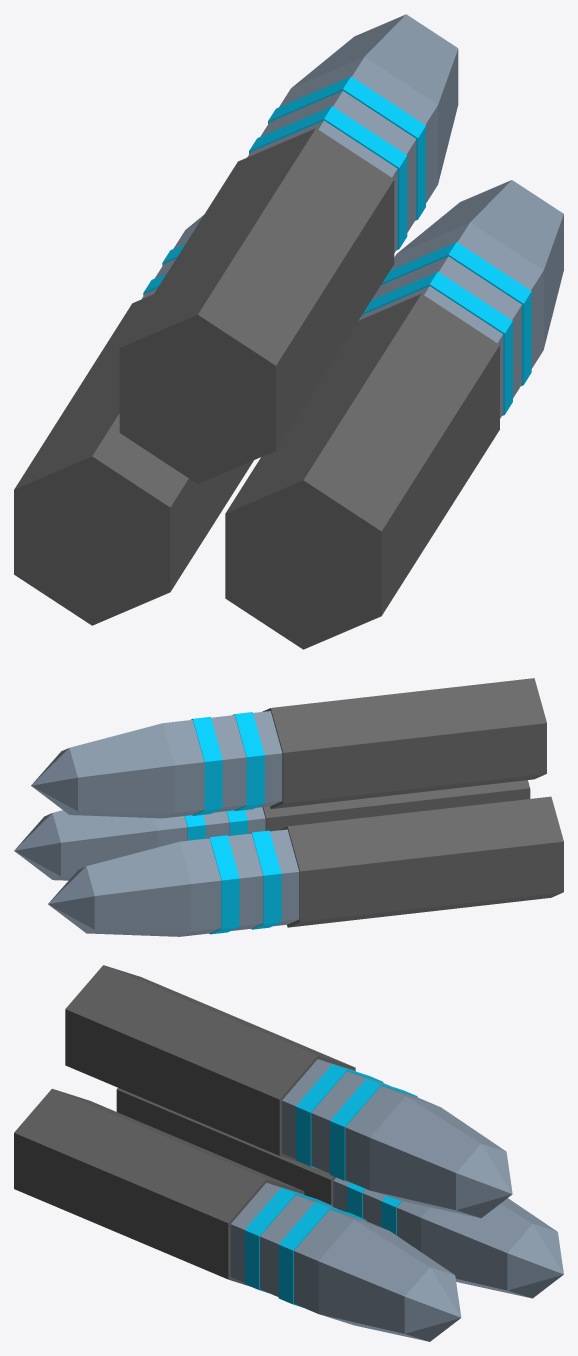
File: ce_ammo2_rcl84_emp_b.obj
3 renders of one model, top to bottom at view 1: azimuth 30°, elevation 25°; view 2: azimuth 150°, elevation 25°; view 3: azimuth 270°, elevation 25°, orthographic. The views are drawn at different scales.
Visible parts, largest first — view 1: ce_ammo2_rcl84_emp_b_16, ce_ammo2_rcl84_emp_b_8, ce_ammo2_rcl84_emp_b_0, ce_ammo2_rcl84_emp_b_14, ce_ammo2_rcl84_emp_b_22, ce_ammo2_rcl84_emp_b_13, ce_ammo2_rcl84_emp_b_21, ce_ammo2_rcl84_emp_b_19, ce_ammo2_rcl84_emp_b_18, ce_ammo2_rcl84_emp_b_20, ce_ammo2_rcl84_emp_b_11, ce_ammo2_rcl84_emp_b_10 (+3 smaller); view 2: ce_ammo2_rcl84_emp_b_0, ce_ammo2_rcl84_emp_b_16, ce_ammo2_rcl84_emp_b_6, ce_ammo2_rcl84_emp_b_22, ce_ammo2_rcl84_emp_b_8, ce_ammo2_rcl84_emp_b_14, ce_ammo2_rcl84_emp_b_5, ce_ammo2_rcl84_emp_b_21, ce_ammo2_rcl84_emp_b_19, ce_ammo2_rcl84_emp_b_3, ce_ammo2_rcl84_emp_b_4, ce_ammo2_rcl84_emp_b_2 (+12 smaller); view 3: ce_ammo2_rcl84_emp_b_16, ce_ammo2_rcl84_emp_b_8, ce_ammo2_rcl84_emp_b_22, ce_ammo2_rcl84_emp_b_14, ce_ammo2_rcl84_emp_b_6, ce_ammo2_rcl84_emp_b_0, ce_ammo2_rcl84_emp_b_15, ce_ammo2_rcl84_emp_b_7, ce_ammo2_rcl84_emp_b_23, ce_ammo2_rcl84_emp_b_21, ce_ammo2_rcl84_emp_b_13, ce_ammo2_rcl84_emp_b_11 (+11 smaller).
Boxes of the visible parts, x1,y1,x2,y2 form: ce_ammo2_rcl84_emp_b_16: (119,128,394,483); ce_ammo2_rcl84_emp_b_8: (225,293,499,649); ce_ammo2_rcl84_emp_b_0: (14,294,253,625); ce_ammo2_rcl84_emp_b_14: (397,180,563,349); ce_ammo2_rcl84_emp_b_22: (292,14,458,183); ce_ammo2_rcl84_emp_b_13: (390,222,543,368); ce_ammo2_rcl84_emp_b_21: (279,57,437,202); ce_ammo2_rcl84_emp_b_19: (260,91,416,232); ce_ammo2_rcl84_emp_b_18: (249,106,407,249); ce_ammo2_rcl84_emp_b_20: (268,76,425,220); ce_ammo2_rcl84_emp_b_11: (372,256,521,397); ce_ammo2_rcl84_emp_b_10: (362,271,512,415); ce_ammo2_rcl84_emp_b_0: (279,796,563,927); ce_ammo2_rcl84_emp_b_16: (262,678,546,808); ce_ammo2_rcl84_emp_b_6: (86,841,191,936); ce_ammo2_rcl84_emp_b_22: (69,723,174,818); ce_ammo2_rcl84_emp_b_8: (262,780,530,831); ce_ammo2_rcl84_emp_b_14: (52,810,157,880); ce_ammo2_rcl84_emp_b_5: (180,838,221,936); ce_ammo2_rcl84_emp_b_21: (163,720,204,818); ce_ammo2_rcl84_emp_b_19: (211,715,246,812); ce_ammo2_rcl84_emp_b_3: (228,833,263,930); ce_ammo2_rcl84_emp_b_4: (207,835,239,934); ce_ammo2_rcl84_emp_b_2: (249,830,281,929); ce_ammo2_rcl84_emp_b_16: (65,965,355,1162); ce_ammo2_rcl84_emp_b_8: (14,1088,304,1286); ce_ammo2_rcl84_emp_b_22: (369,1096,505,1217); ce_ammo2_rcl84_emp_b_14: (318,1219,454,1341); ce_ammo2_rcl84_emp_b_6: (421,1198,556,1297); ce_ammo2_rcl84_emp_b_0: (116,1088,335,1206); ce_ammo2_rcl84_emp_b_15: (404,1267,461,1341); ce_ammo2_rcl84_emp_b_7: (507,1224,563,1298); ce_ammo2_rcl84_emp_b_23: (456,1143,512,1218); ce_ammo2_rcl84_emp_b_21: (345,1086,439,1190); ce_ammo2_rcl84_emp_b_13: (294,1209,387,1313); ce_ammo2_rcl84_emp_b_11: (260,1195,338,1296).
Bounding box in the file's own units: 0.758 × 0.326 × 0.758.
